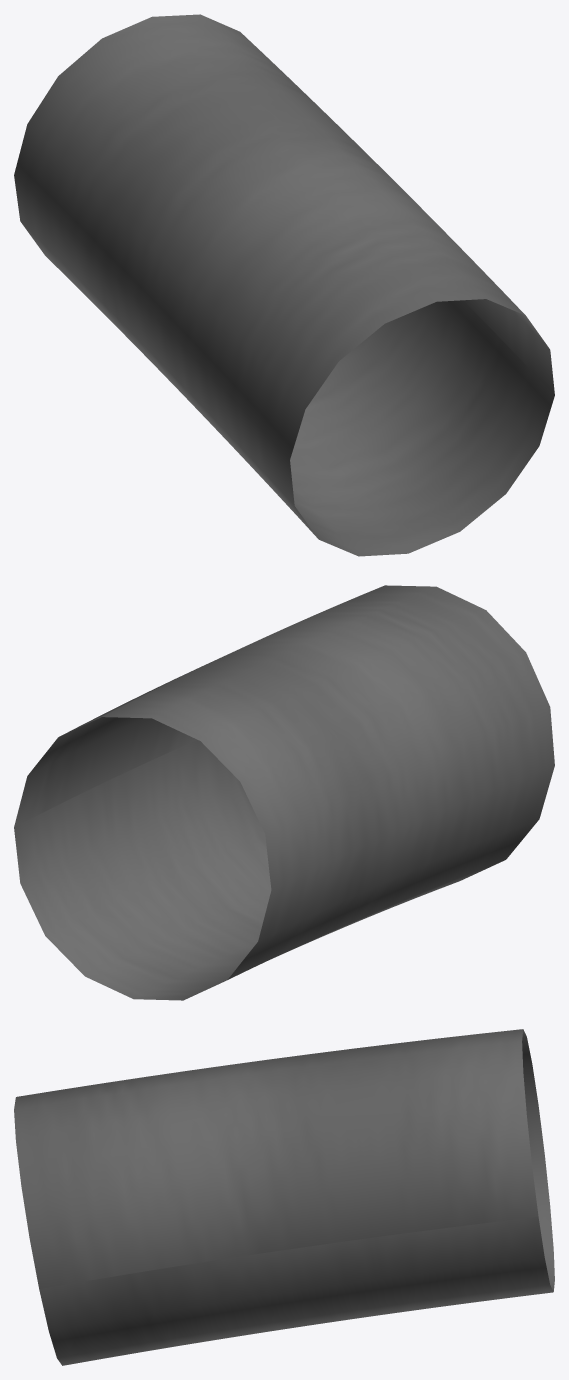
The model's file is mastarmcurve_8x2_c7.obj.
3 views of the same model, one above another, from view 1: azimuth 30°, elevation 25°; view 2: azimuth 150°, elevation 25°; view 3: azimuth 270°, elevation 25° (orthographic). The views are drawn at different scales.
Visible parts, largest first — view 1: mastarm_8x2_c7; view 2: mastarm_8x2_c7; view 3: mastarm_8x2_c7.
Part boxes in pixels (<box>): mastarm_8x2_c7: <box>14,14,554,556</box>; mastarm_8x2_c7: <box>14,585,554,1000</box>; mastarm_8x2_c7: <box>14,1029,554,1365</box>.
Bounding box in the file's own units: 0.5469 × 0.6886 × 1.08.
